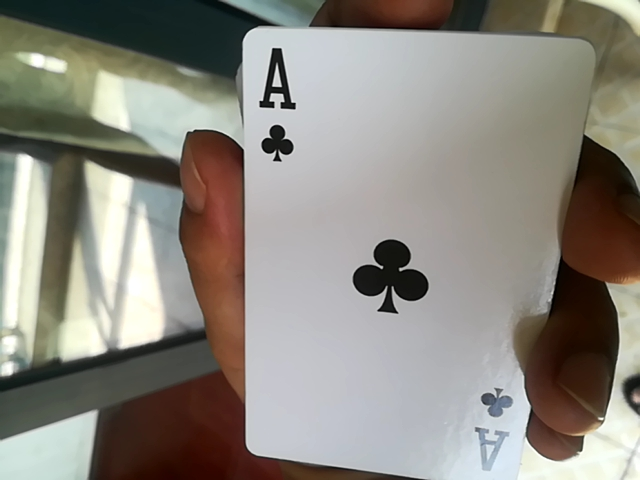mh a: (228, 28, 609, 476)
